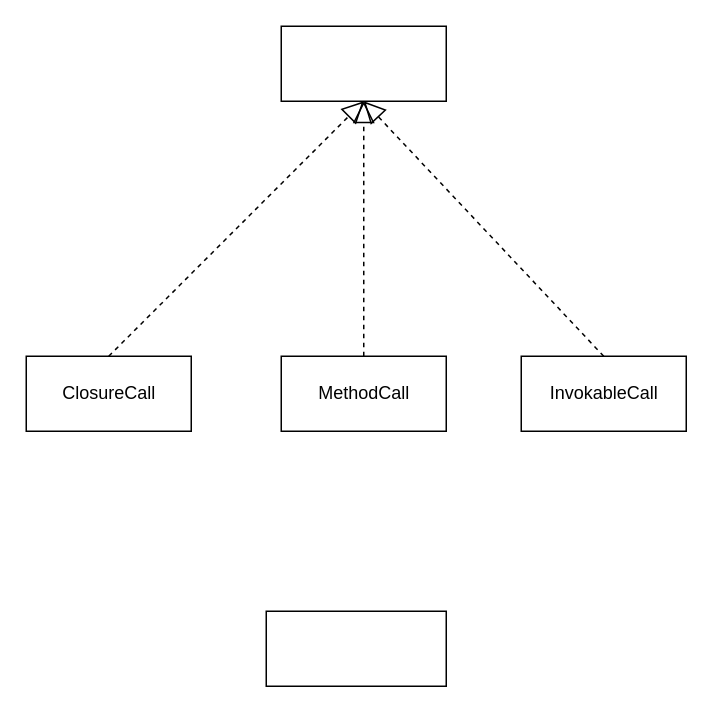
The diagram is 713 pixels wide and 713 high, and some of its shapes have lost their labels. The shapes that lost their labels are listed below. From the top down, each one's box as (x1, y1, x2, y2) in pixels, then its label:
(280, 25, 446, 101): «interface» CallableType
(265, 610, 446, 686): CallableTypeFactory
